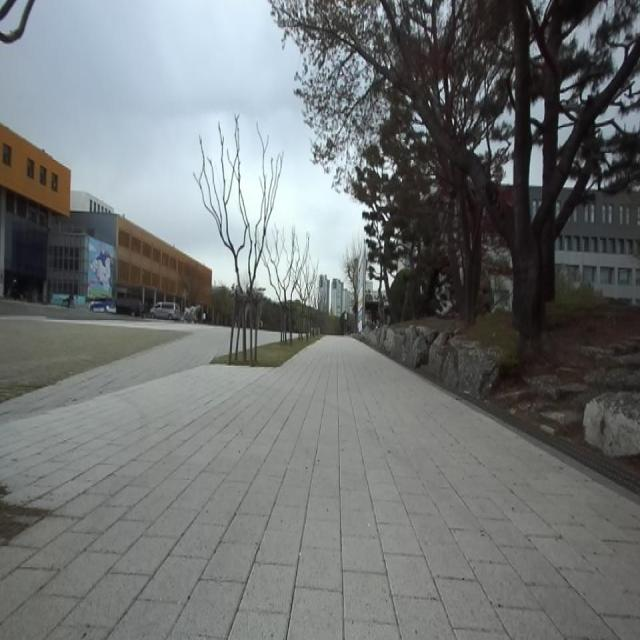sidewalk: (0, 338, 640, 639), (0, 326, 229, 424)
